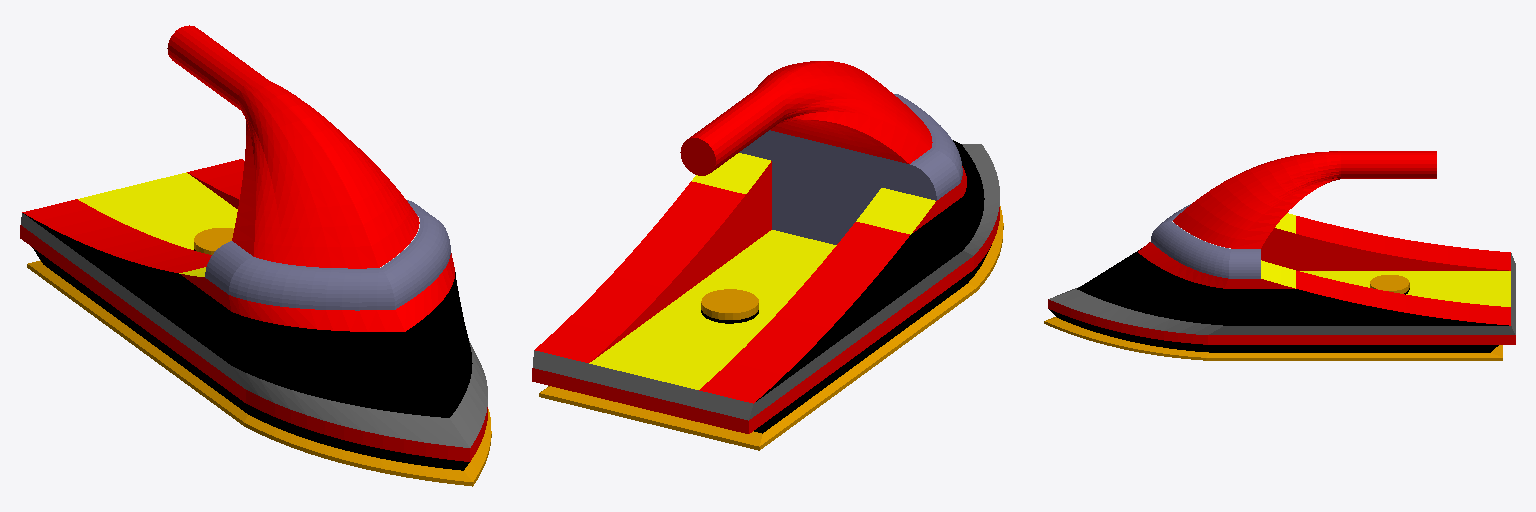
URDF robot description (iron_2):
<robot name="iron_2">
       <link name="body">
       	     <visual>
		<geometry>
			<mesh filename="package://models_pkg/models/other/meshes/iron_2.dae" scale="1 1 1" />
		</geometry>
		<origin rpy="0 0 0" xyz="0 -0.2 0.01923" />
	     </visual>
       	     <collision>
		<geometry>
			<mesh filename="package://models_pkg/models/other/meshes/iron_2.dae" scale="1 1 1" />
		</geometry>
		<origin rpy="0 0 0" xyz="0 -0.2 0.01923" />
	     </collision>
	     <inertial>
		<mass value="0.1" />
		<inertia ixx="1.0" ixy="0.0" ixz="0.0" iyy="10.0" iyz="0.0" izz="1.0" />
	     </inertial>
       </link>
</robot>

--- What the picture shows (computed from the rendered views, not written in the file) ---
3 views of the same robot in one strip: view 1: azimuth 30°, elevation 25°; view 2: azimuth 150°, elevation 25°; view 3: azimuth 270°, elevation 25° (orthographic).
Robot: iron_2 — 1 links, 0 joints (none); root link body; default pose: all joints at 0.
Visible links, largest first — view 1: body; view 2: body; view 3: body.
Boxes of the visible links, <box> form: body: <box>20,25,491,486</box>; body: <box>532,61,1003,450</box>; body: <box>1044,151,1515,360</box>.
Size in the robot's own frame: 0.1127 by 0.3053 by 0.1225 metres.
1 mesh visuals loaded from 1 distinct referenced files (1 Collada DAE).